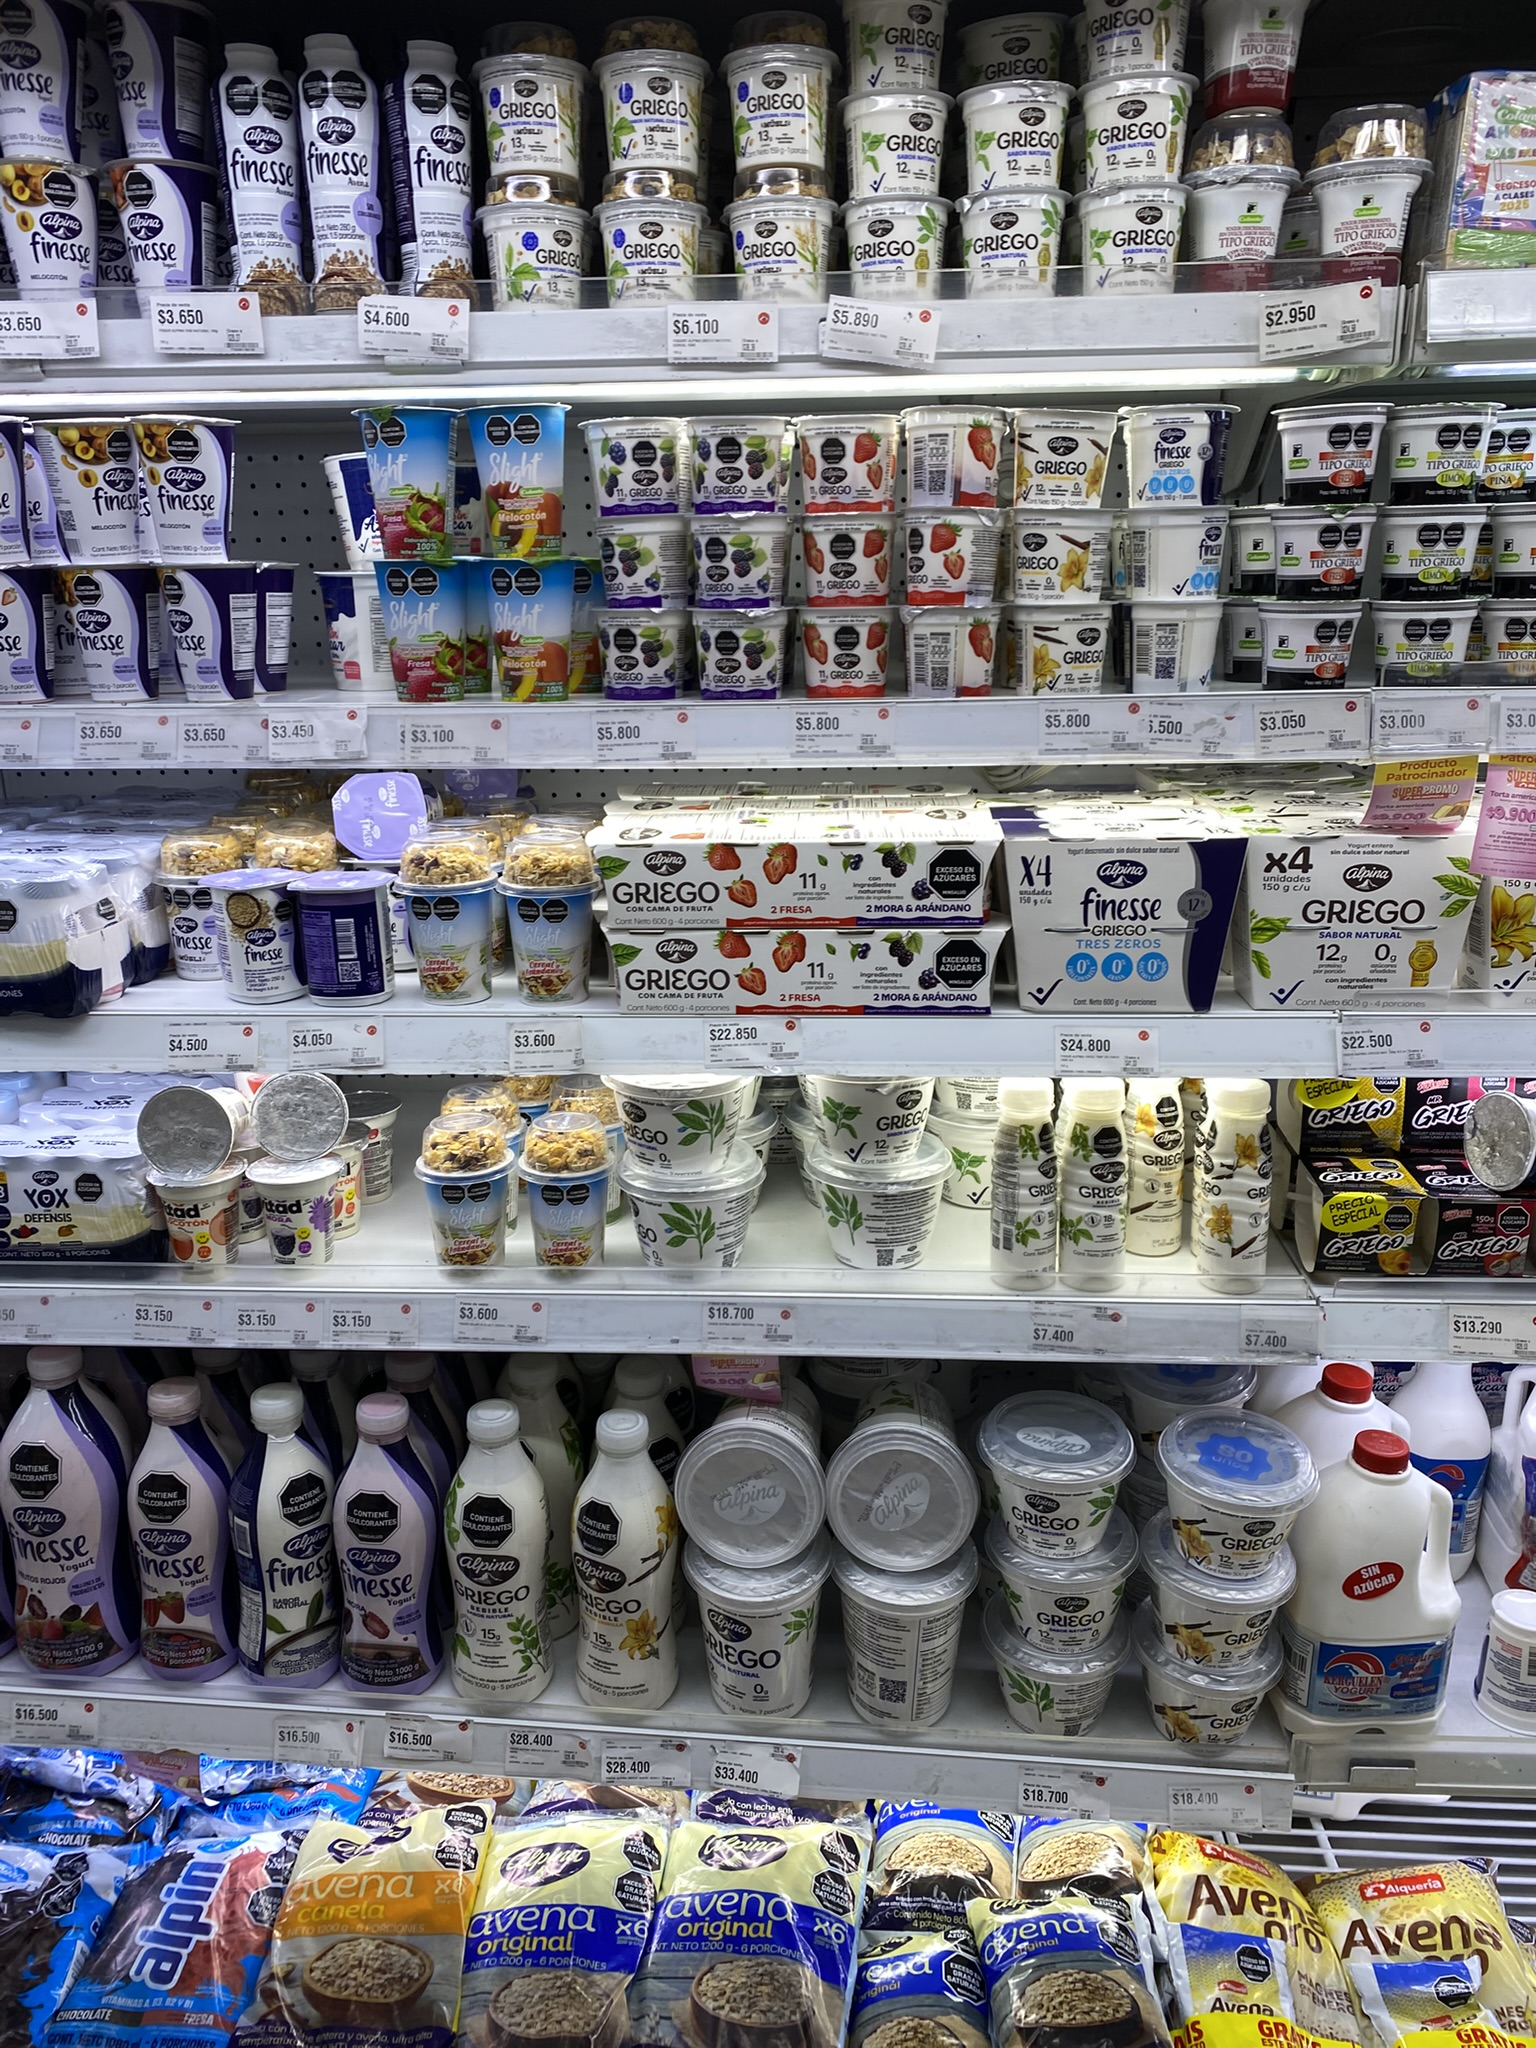Yogurt Griego: (681, 1540, 824, 1727), (983, 1380, 1134, 1555), (829, 1566, 975, 1730), (591, 1063, 768, 1169), (813, 1155, 965, 1274), (620, 1158, 763, 1280), (991, 1534, 1136, 1640), (1086, 63, 1208, 185), (995, 1637, 1129, 1748), (949, 61, 1073, 177), (842, 77, 952, 205), (797, 1076, 941, 1166), (1076, 189, 1196, 284), (962, 189, 1062, 289), (841, 206, 944, 285), (850, 0, 945, 79), (1078, 0, 1192, 63)
